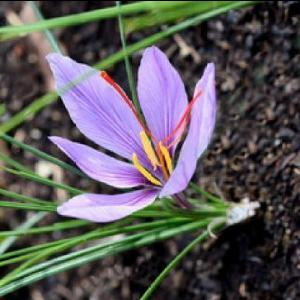Saffron: (57, 49, 218, 218)
